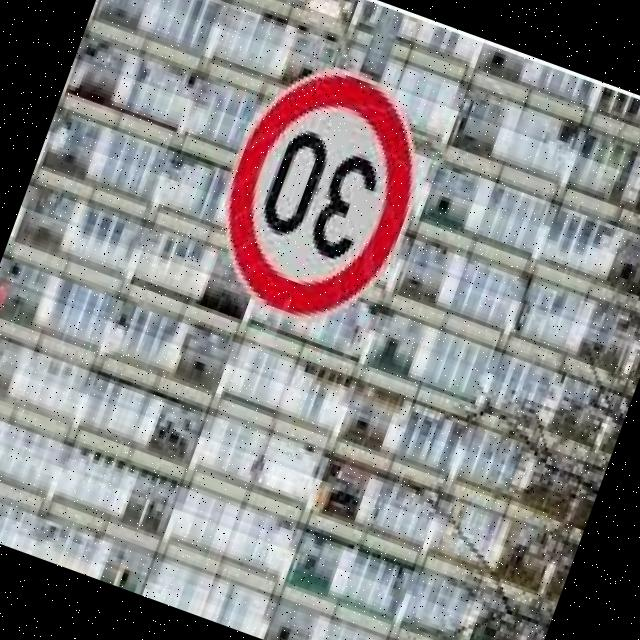speed_limit_30: (187, 39, 456, 348)
